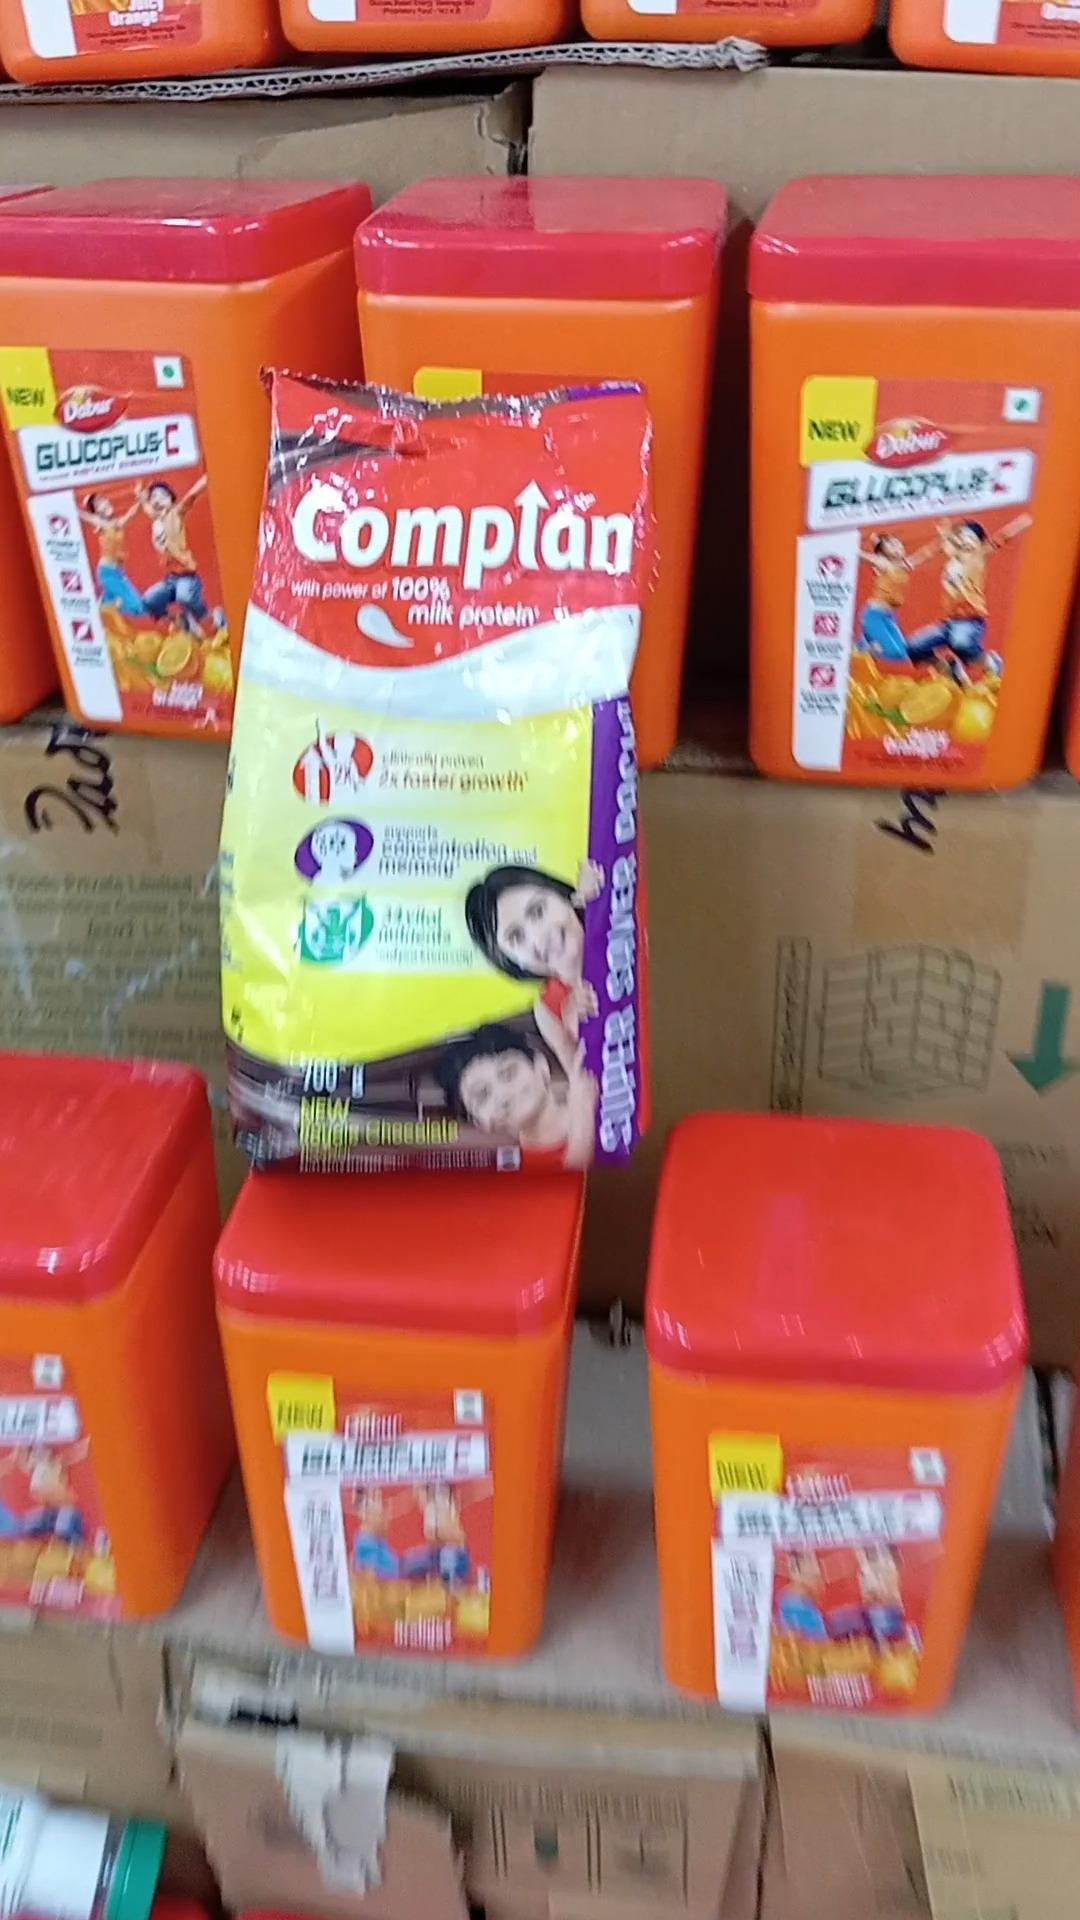COMPLAN_RC_POUCH_700_GMS_12: (235, 378, 636, 1184)
